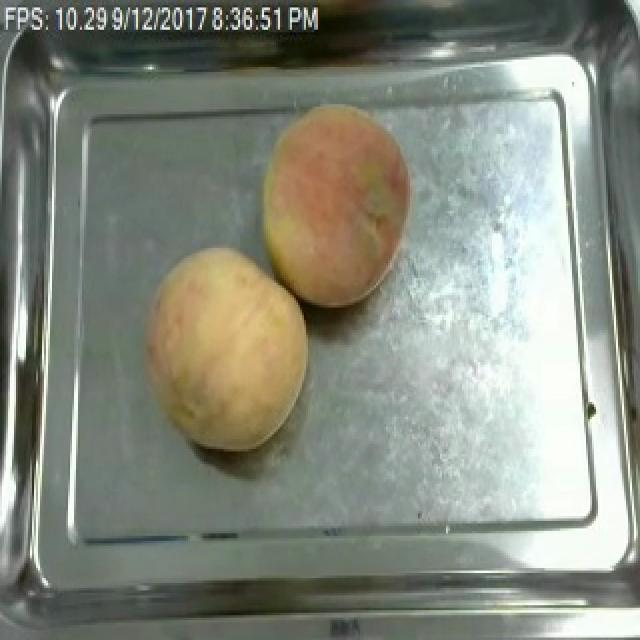Fruit: (138, 238, 318, 457), (248, 97, 422, 315)
